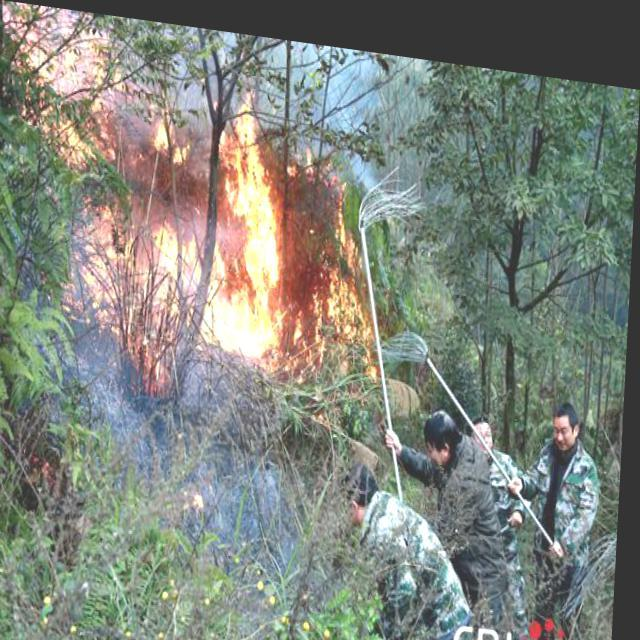Fire: (0, 0, 394, 392)
Smoke: (85, 362, 304, 516)
